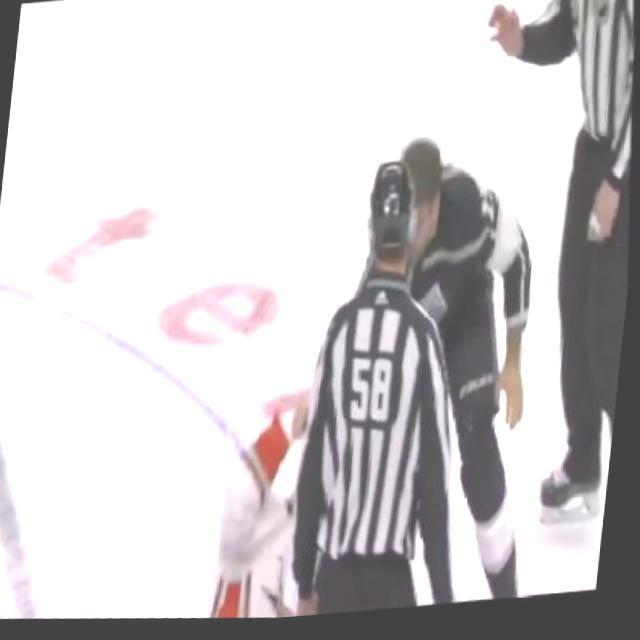fight: (178, 110, 582, 628)
